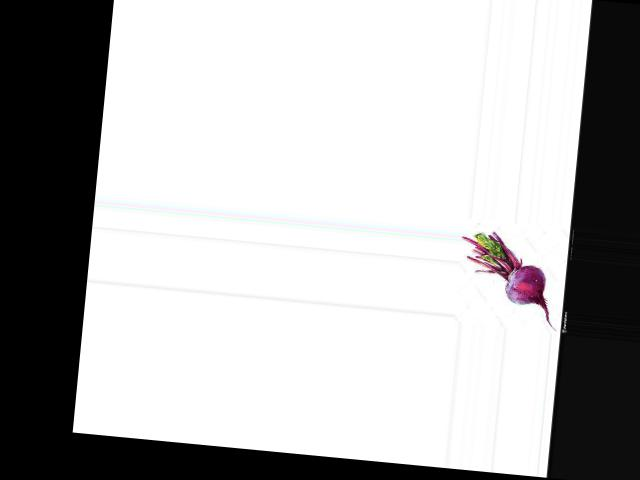beet: (453, 228, 564, 330)
